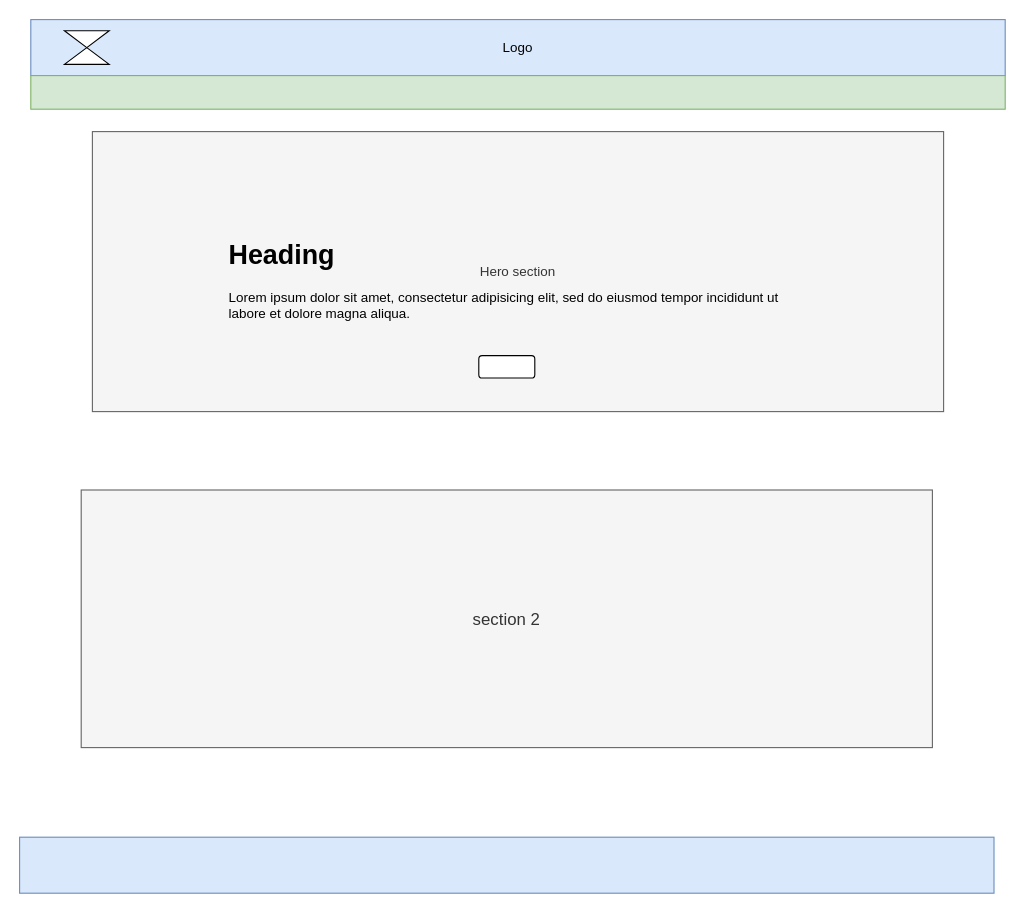
Image size: 1025x913. Some labels were removed from this diagram. Each missing label, with the centre of its shape:
"footer" belongs at pixel 506 864.
"navs" belongs at pixel 517 91.
